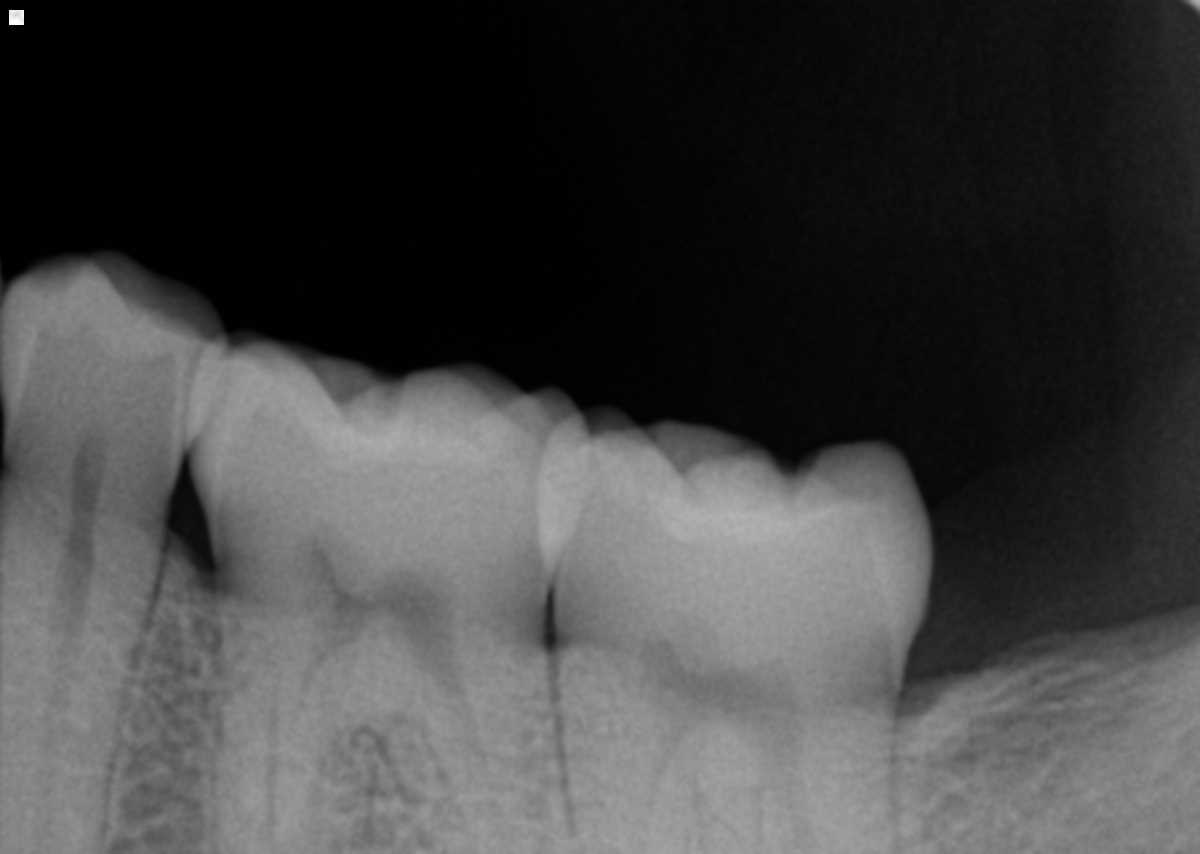Distal Canal: (407, 649, 491, 796), (729, 712, 816, 850)
Distal Root: (377, 633, 568, 854), (719, 715, 900, 854)
Main Canal: (32, 516, 97, 852)
Main Root: (0, 483, 172, 854)
Mesial Canal: (283, 630, 357, 752), (262, 676, 282, 847)
Mesial Root: (211, 600, 366, 854), (552, 693, 702, 854)
